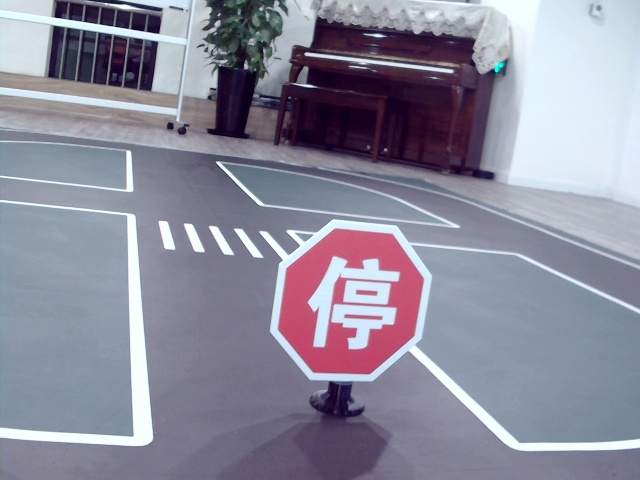stop: (311, 253, 397, 352)
